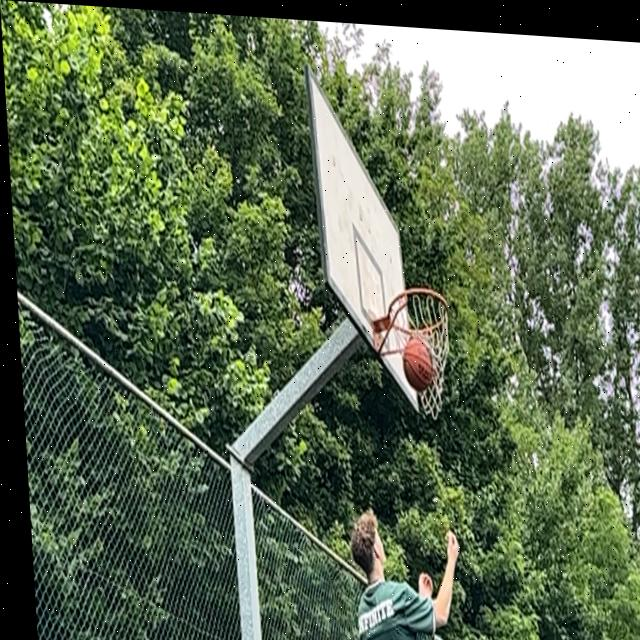Basketball: (401, 338, 438, 393)
